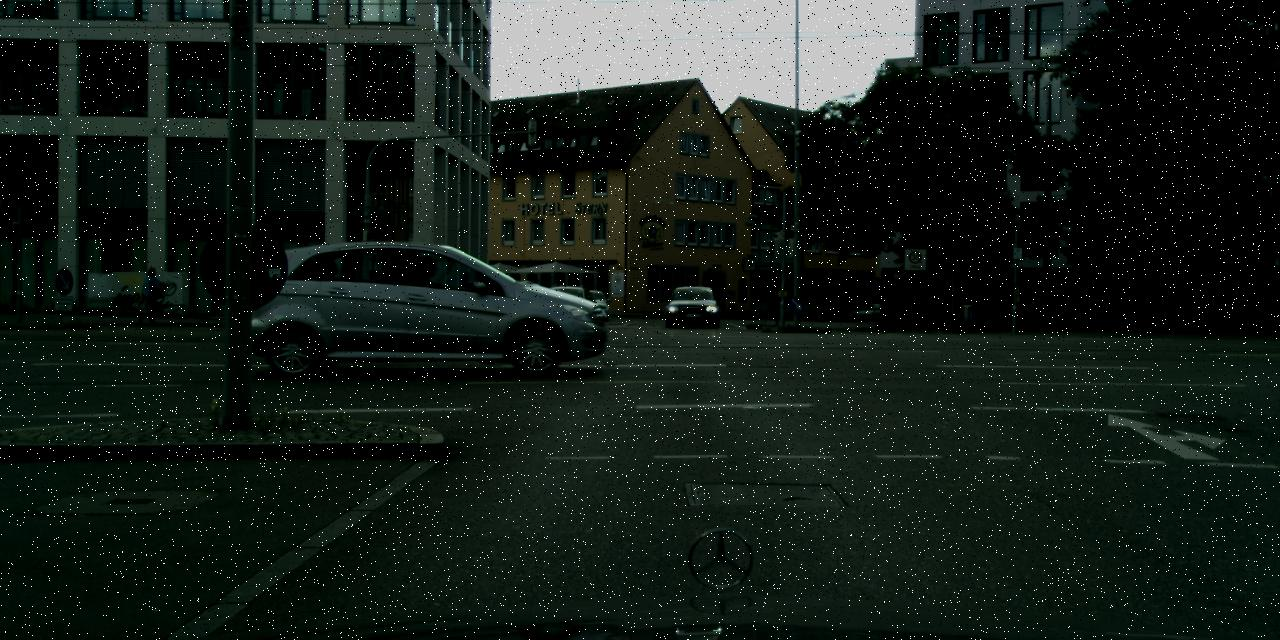ped: (137, 267, 160, 323), (980, 286, 996, 325), (960, 288, 974, 320)
